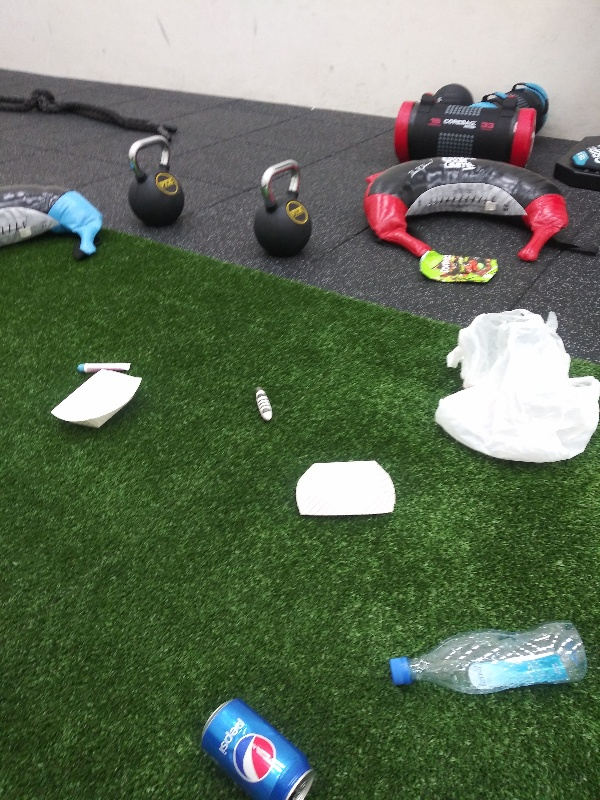bag: (414, 245, 502, 286)
bottle: (389, 611, 588, 699)
can: (191, 692, 320, 800)
plate: (291, 454, 400, 520), (48, 365, 148, 432)
